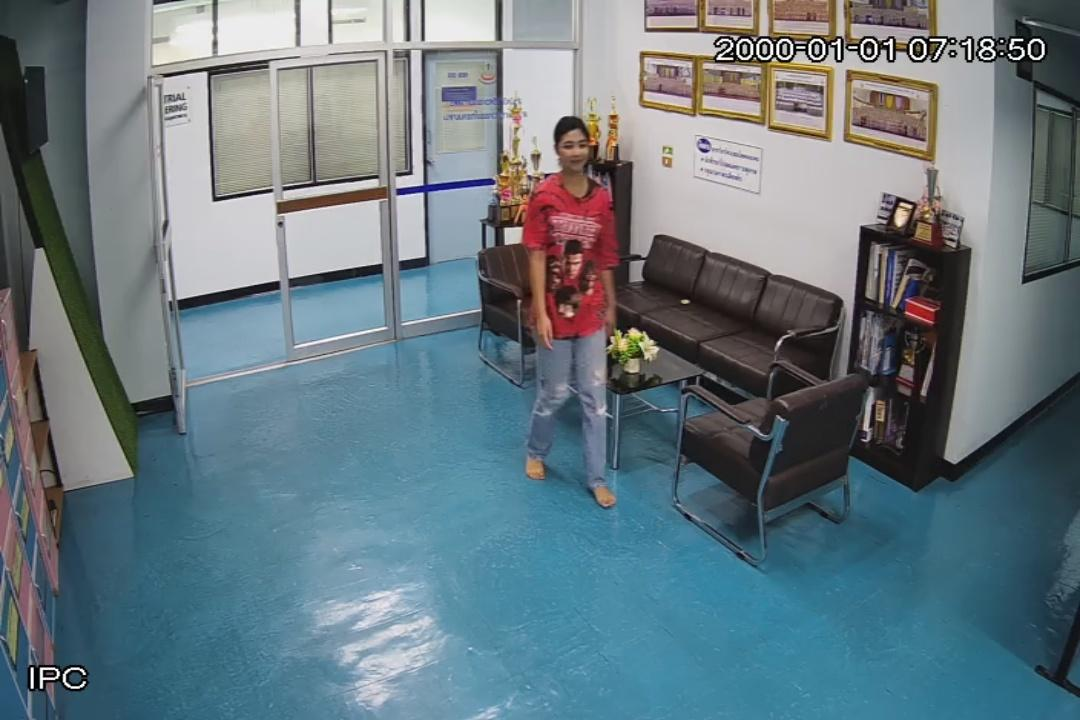normal: (522, 117, 612, 504)
